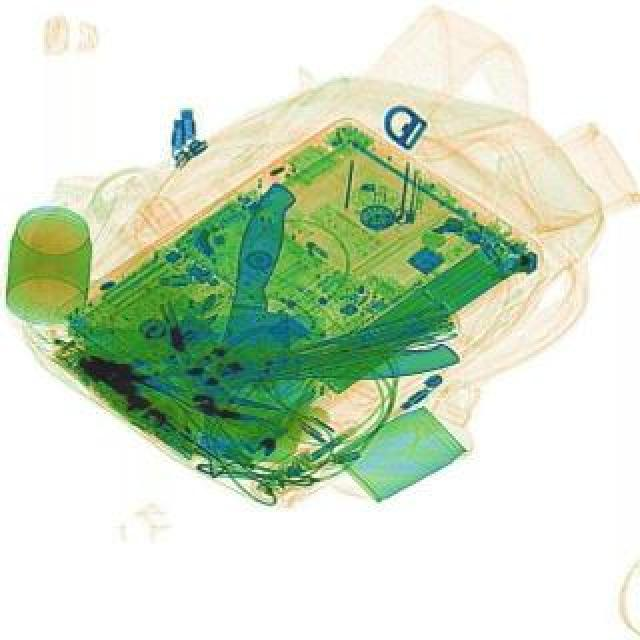knife: (192, 178, 362, 472), (86, 302, 458, 394)
